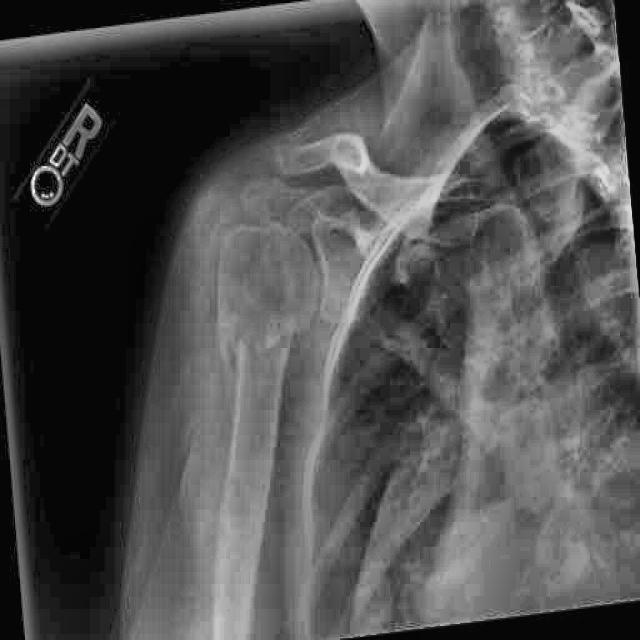shoulder fracture: (200, 299, 282, 400)
